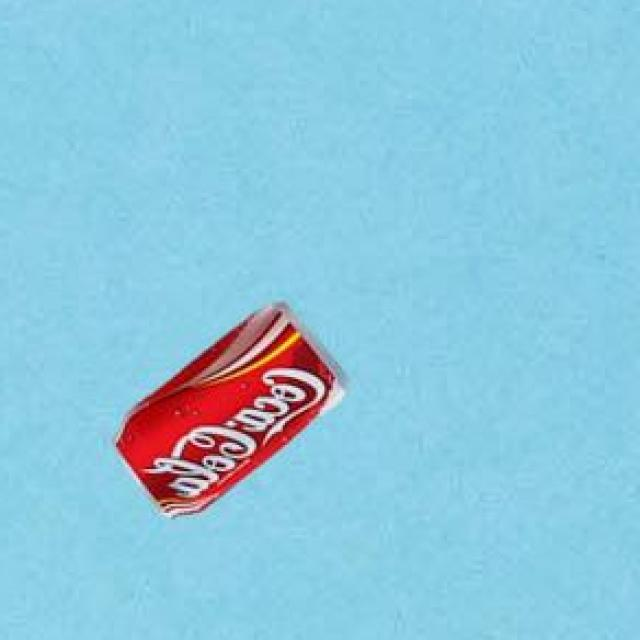logam: (108, 306, 345, 521)
